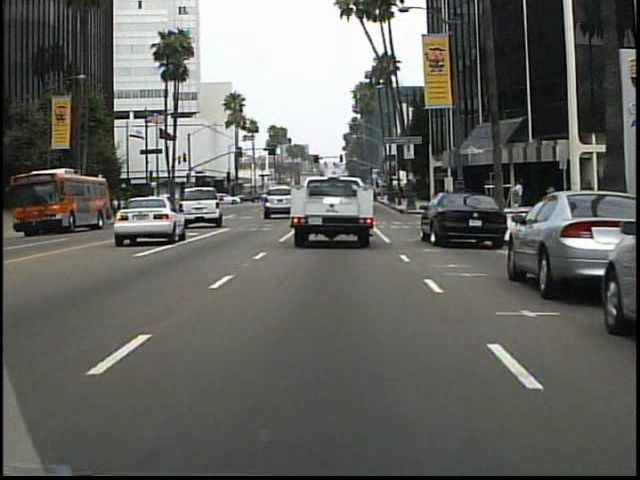person: (513, 178, 526, 197)
